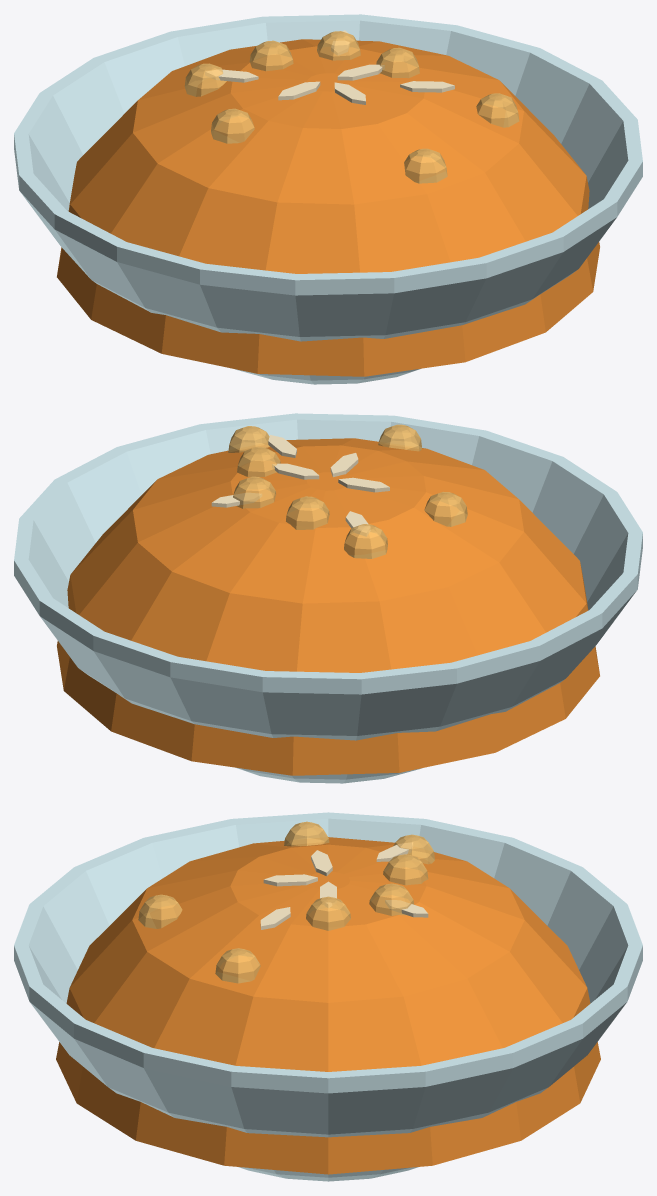
File: sago-halwa.glb
3 renders of one model, top to bottom at view 1: azimuth 30°, elevation 25°; view 2: azimuth 150°, elevation 25°; view 3: azimuth 270°, elevation 25°, orthographic.
Parts seen in each view (by area): view 1: sago-halwa; view 2: sago-halwa; view 3: sago-halwa.
Boxes of the visible parts, bbox=[...] form: sago-halwa: bbox=[14, 14, 642, 384]; sago-halwa: bbox=[14, 413, 642, 783]; sago-halwa: bbox=[14, 812, 642, 1181].
Bounding box in the file's own units: 0.3 × 0.1359 × 0.3.
